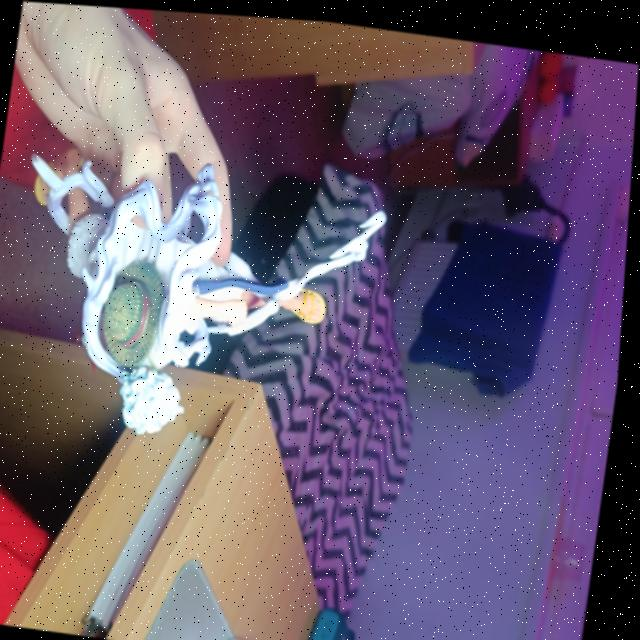luffy: (0, 130, 404, 460)
